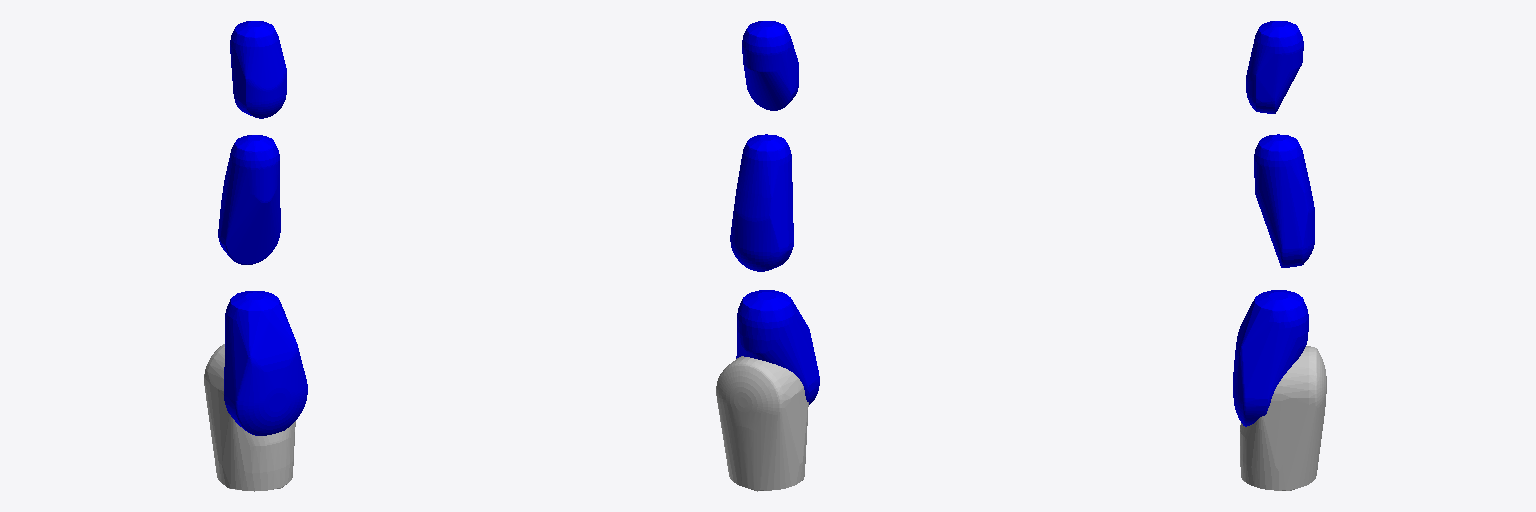
robot.urdf — motoman_sia10f:
<?xml version="1.0" ?>
<!-- =================================================================================== -->
<!-- |    This document was autogenerated by xacro from sia10f.xacro                   | -->
<!-- |    EDITING THIS FILE BY HAND IS NOT RECOMMENDED                                 | -->
<!-- =================================================================================== -->
<robot name="motoman_sia10f" xmlns:xacro="http://ros.org/wiki/xacro">
  <link name="base_link">
    <visual>
      <geometry>
        <mesh filename="package://motoman_sia10f_support/meshes/sia10f/visual_rot/motoman_base.stl"/>
      </geometry>
      <material name="blue">
        <color rgba="0 0 1 1"/>
      </material>
    </visual>
    <collision>
      <geometry>
        <mesh filename="package://motoman_sia10f_support/meshes/sia10f/collision_rot/motoman_base.stl"/>
      </geometry>
      <material name="yellow">
        <color rgba="0 1 1 1"/>
      </material>
    </collision>
    <inertial>
      <origin rpy="0 0 0" xyz="-0.025918 -0.000376 0.076105"/>
      <mass value="9.23913043478"/>
      <inertia ixx="0.0378685009058" ixy="0" ixz="0" iyy="0.0465867830616" iyz="0" izz="0.0514065294384"/>
    </inertial>
  </link>
  <link name="link_s">
    <visual>
      <geometry>
        <mesh filename="package://motoman_sia10f_support/meshes/sia10f/visual_rot/motoman_axis_s.stl"/>
      </geometry>
      <material name="silver">
        <color rgba="0.8 0.8 0.8 1"/>
      </material>
    </visual>
    <collision>
      <geometry>
        <mesh filename="package://motoman_sia10f_support/meshes/sia10f/collision_rot/motoman_axis_s.stl"/>
      </geometry>
      <material name="yellow"/>
    </collision>
    <inertial>
      <origin rpy="0 0 0" xyz="0 0 0"/>
      <mass value="8.36956521739"/>
      <inertia ixx="0.1285284" ixy="0" ixz="0" iyy="0.127697251956" iyz="0" izz="0.0186623672464"/>
    </inertial>
  </link>
  <link name="link_l">
    <visual>
      <origin rpy="0 0 0" xyz="0 0 0"/>
      <geometry>
        <mesh filename="package://motoman_sia10f_support/meshes/sia10f/visual_rot/motoman_axis_l.stl"/>
      </geometry>
      <material name="blue"/>
    </visual>
    <collision>
      <origin rpy="0 0 0" xyz="0 0 0"/>
      <geometry>
        <mesh filename="package://motoman_sia10f_support/meshes/sia10f/collision_rot/motoman_axis_l.stl"/>
      </geometry>
      <material name="yellow"/>
    </collision>
    <inertial>
      <origin rpy="0 0 0" xyz="0 0 0"/>
      <mass value="7.60869565217"/>
      <inertia ixx="0.12248884058" ixy="0" ixz="0" iyy="0.117554616667" iyz="0" izz="0.0177495804348"/>
    </inertial>
  </link>
  <link name="link_e">
    <visual>
      <origin rpy="0 0 0" xyz="0 0 0"/>
      <geometry>
        <mesh filename="package://motoman_sia10f_support/meshes/sia10f/visual_rot/motoman_axis_e.stl"/>
      </geometry>
      <material name="silver"/>
    </visual>
    <collision>
      <origin rpy="0 0 0" xyz="0 0 0"/>
      <geometry>
        <mesh filename="package://motoman_sia10f_support/meshes/sia10f/collision_rot/motoman_axis_e.stl"/>
      </geometry>
      <material name="yellow"/>
    </collision>
    <inertial>
      <origin rpy="0 0 0" xyz="0 0 0"/>
      <mass value="1.30434782609"/>
      <inertia ixx="0.0122899381739" ixy="0" ixz="0" iyy="0.0117127787826" iyz="0" izz="0.00344401234783"/>
    </inertial>
  </link>
  <link name="link_u">
    <visual>
      <origin rpy="0 0 0" xyz="0 0 0"/>
      <geometry>
        <mesh filename="package://motoman_sia10f_support/meshes/sia10f/visual_rot/motoman_axis_u.stl"/>
      </geometry>
      <material name="blue"/>
    </visual>
    <collision>
      <origin rpy="0 0 0" xyz="0 0 0"/>
      <geometry>
        <mesh filename="package://motoman_sia10f_support/meshes/sia10f/collision_rot/motoman_axis_u.stl"/>
      </geometry>
      <material name="yellow"/>
    </collision>
    <inertial>
      <origin rpy="0 0 0" xyz="0.0 0.0 0.0"/>
      <mass value="1.08695652174"/>
      <inertia ixx="0.0110207115768" ixy="0" ixz="0" iyy="0.00996803594202" iyz="0" izz="0.00214043853333"/>
    </inertial>
  </link>
  <link name="link_r">
    <visual>
      <origin rpy="0 0 0" xyz="0 0 0"/>
      <geometry>
        <mesh filename="package://motoman_sia10f_support/meshes/sia10f/visual_rot/motoman_axis_r.stl"/>
      </geometry>
      <material name="silver"/>
    </visual>
    <collision>
      <origin rpy="0 0 0" xyz="0 0 0"/>
      <geometry>
        <mesh filename="package://motoman_sia10f_support/meshes/sia10f/collision_rot/motoman_axis_r.stl"/>
      </geometry>
      <material name="yellow"/>
    </collision>
    <inertial>
      <origin rpy="0 0 0" xyz="0 0 0"/>
      <mass value="0.978260869565"/>
      <inertia ixx="0.0108400832201" ixy="0" ixz="0" iyy="0.010708873981" iyz="0" izz="0.00140456861413"/>
    </inertial>
  </link>
  <link name="link_b">
    <visual>
      <origin rpy="0 0 0" xyz="0 0 0"/>
      <geometry>
        <mesh filename="package://motoman_sia10f_support/meshes/sia10f/visual_rot/motoman_axis_b.stl"/>
      </geometry>
      <material name="blue"/>
    </visual>
    <collision>
      <origin rpy="0 0 0" xyz="0 0 0"/>
      <geometry>
        <mesh filename="package://motoman_sia10f_support/meshes/sia10f/collision_rot/motoman_axis_b.stl"/>
      </geometry>
      <material name="yellow"/>
    </collision>
    <inertial>
      <origin rpy="0 0 0" xyz="0 0 0"/>
      <mass value="0.869565217391"/>
      <inertia ixx="0.00814341869565" ixy="0" ixz="0" iyy="0.00709473869565" iyz="0" izz="0.000736577391304"/>
    </inertial>
  </link>
  <link name="link_t">
    <visual>
      <geometry>
        <mesh filename="package://motoman_sia10f_support/meshes/sia10f/visual_rot/motoman_axis_t.stl"/>
      </geometry>
      <material name="silver"/>
    </visual>
    <collision>
      <geometry>
        <mesh filename="package://motoman_sia10f_support/meshes/sia10f/collision_rot/motoman_axis_t.stl"/>
      </geometry>
      <material name="yellow"/>
    </collision>
    <inertial>
      <mass value="0.54347826087"/>
      <inertia ixx="0.003" ixy="0" ixz="0" iyy="0.003" iyz="0" izz="0.001"/>
    </inertial>
  </link>
  <link name="tool0"/>
  <joint name="joint_s" type="revolute">
    <parent link="base_link"/>
    <child link="link_s"/>
    <origin rpy="0 0 0" xyz="0 0 0.36"/>
    <axis xyz="0 0 1"/>
    <dynamics damping="0.7" friction="0.7"/>
    <limit effort="100" lower="-3.1415" upper="3.1415" velocity="2.9670" />
  </joint>
  <joint name="joint_l" type="revolute">
    <parent link="link_s"/>
    <child link="link_l"/>
    <origin rpy="0 0 0" xyz="0 0 0"/>
    <axis xyz="0 1 0"/>
    <dynamics damping="0.7" friction="0.7"/>
    <limit effort="100" lower="-1.9198" upper="1.9198" velocity="2.9670" />
  </joint>
  <joint name="joint_e" type="revolute">
    <parent link="link_l"/>
    <child link="link_e"/>
    <origin rpy="0 0 0" xyz="0 0 0.36"/>
    <axis xyz="0 0 1"/>
    <dynamics damping="0.7" friction="0.7"/>
    <limit effort="100" lower="-2.9670" upper="2.9670" velocity="2.9670" />
  </joint>
  <joint name="joint_u" type="revolute">
    <parent link="link_e"/>
    <child link="link_u"/>
    <origin rpy="0 0 0" xyz="0 0 0"/>
    <axis xyz="0 -1 0"/>
    <dynamics damping="0.7" friction="0.7"/>
    <limit effort="100" lower="-2.3561" upper="2.3561" velocity="2.9670" />
  </joint>
  <joint name="joint_r" type="revolute">
    <parent link="link_u"/>
    <child link="link_r"/>
    <origin rpy="0 0 0" xyz="0 0 0.360"/>
    <axis xyz="0 0 -1"/>
    <dynamics damping="0.7" friction="0.7"/>
    <limit effort="100" lower="-3.1415" upper="3.1415" velocity="3.4906" />
  </joint>
  <joint name="joint_b" type="revolute">
    <parent link="link_r"/>
    <child link="link_b"/>
    <origin rpy="0 0 0" xyz="0 0 0"/>
    <axis xyz="0 -1 0"/>
    <dynamics damping="0.7" friction="0.7"/>
    <limit effort="100" lower="-1.9198" upper="1.9198" velocity="3.4906" />
  </joint>
  <joint name="joint_t" type="revolute">
    <parent link="link_b"/>
    <child link="link_t"/>
    <origin rpy="0 0 0" xyz="0 0 0.155"/>
    <axis xyz="0 0 -1"/>
    <dynamics damping="0.7" friction="0.7"/>
    <limit effort="100" lower="-3.1415" upper="3.1415" velocity="6.9813" />
  </joint>
  <link name="base"/>
  <joint name="link_l-base" type="fixed">
    <origin rpy="0 0 0" xyz="0 0 0"/>
    <parent link="link_l"/>
    <child link="base"/>
  </joint>
  <joint name="link_t-tool0" type="fixed">
    <origin rpy="0 0 0" xyz="0 0 0"/>
    <parent link="link_t"/>
    <child link="tool0"/>
  </joint>
  <!-- transmission -->
  <transmission name="transmission_s">
    <type>transmission_interface/SimpleTransmission</type>
    <joint name="joint_s">
      <hardwareInterface>PositionJointInterface</hardwareInterface>
    </joint>
    <actuator name="motor_s">
      <hardwareInterface>PositionJointInterface</hardwareInterface>
      <mechanicalReduction>300</mechanicalReduction>
    </actuator>
  </transmission>
  <transmission name="transmission_l">
    <type>transmission_interface/SimpleTransmission</type>
    <joint name="joint_l">
      <hardwareInterface>PositionJointInterface</hardwareInterface>
    </joint>
    <actuator name="motor_l">
      <hardwareInterface>PositionJointInterface</hardwareInterface>
      <mechanicalReduction>300</mechanicalReduction>
    </actuator>
  </transmission>
  <transmission name="transmission_e">
    <type>transmission_interface/SimpleTransmission</type>
    <joint name="joint_e">
      <hardwareInterface>PositionJointInterface</hardwareInterface>
    </joint>
    <actuator name="motor_e">
      <hardwareInterface>PositionJointInterface</hardwareInterface>
      <mechanicalReduction>100</mechanicalReduction>
    </actuator>
  </transmission>
  <transmission name="transmission_u">
    <type>transmission_interface/SimpleTransmission</type>
    <joint name="joint_u">
      <hardwareInterface>PositionJointInterface</hardwareInterface>
    </joint>
    <actuator name="motor_u">
      <hardwareInterface>PositionJointInterface</hardwareInterface>
      <mechanicalReduction>50</mechanicalReduction>
    </actuator>
  </transmission>
  <transmission name="transmission_r">
    <type>transmission_interface/SimpleTransmission</type>
    <joint name="joint_r">
      <hardwareInterface>PositionJointInterface</hardwareInterface>
    </joint>
    <actuator name="motor_r">
      <hardwareInterface>PositionJointInterface</hardwareInterface>
      <mechanicalReduction>30</mechanicalReduction>
    </actuator>
  </transmission>
  <transmission name="transmission_b">
    <type>transmission_interface/SimpleTransmission</type>
    <joint name="joint_b">
      <hardwareInterface>PositionJointInterface</hardwareInterface>
    </joint>
    <actuator name="motor_b">
      <hardwareInterface>PositionJointInterface</hardwareInterface>
      <mechanicalReduction>30</mechanicalReduction>
    </actuator>
  </transmission>
  <transmission name="transmission_t">
    <type>transmission_interface/SimpleTransmission</type>
    <joint name="joint_t">
      <hardwareInterface>PositionJointInterface</hardwareInterface>
    </joint>
    <actuator name="motor_t">
      <hardwareInterface>PositionJointInterface</hardwareInterface>
      <mechanicalReduction>10</mechanicalReduction>
    </actuator>
  </transmission>
  <!-- gazebo -->
  <gazebo>
    <plugin filename="libgazebo_ros_control.so" name="gazebo_ros_control">
      <robotSimType>gazebo_ros_control/DefaultRobotHWSim</robotSimType>
    </plugin>
  </gazebo>
  <gazebo reference="base_link">
    <mu1>0.2</mu1>
    <mu2>0.2</mu2>
    <selfCollide>true</selfCollide>
  </gazebo>
  <gazebo reference="link_s">
    <mu1>0.2</mu1>
    <mu2>0.2</mu2>
    <selfCollide>true</selfCollide>
  </gazebo>
  <gazebo reference="link_l">
    <mu1>0.2</mu1>
    <mu2>0.2</mu2>
    <selfCollide>true</selfCollide>
  </gazebo>
  <gazebo reference="link_e">
    <mu1>0.2</mu1>
    <mu2>0.2</mu2>
    <selfCollide>true</selfCollide>
  </gazebo>
  <gazebo reference="link_u">
    <mu1>0.2</mu1>
    <mu2>0.2</mu2>
    <selfCollide>true</selfCollide>
  </gazebo>
  <gazebo reference="link_r">
    <mu1>0.2</mu1>
    <mu2>0.2</mu2>
    <selfCollide>true</selfCollide>
  </gazebo>
  <gazebo reference="link_b">
    <mu1>0.2</mu1>
    <mu2>0.2</mu2>
    <selfCollide>true</selfCollide>
  </gazebo>
  <gazebo reference="link_t">
    <mu1>0.2</mu1>
    <mu2>0.2</mu2>
    <selfCollide>true</selfCollide>
  </gazebo>
  <link name="world"/>
  <joint name="world" type="fixed">
    <origin rpy="0 0 0" xyz="0 0 0"/>
    <parent link="world"/>
    <child link="base_link"/>
  </joint>
  <!-- gazebo
  <gazebo>
    <plugin name="gazebo_ros_control" filename="libgazebo_ros_control.so">
      <robotSimType>gazebo_ros_control/DefaultRobotHWSim</robotSimType>
    </plugin>
  </gazebo>
  -->
</robot>

--- Facts derived from the render (not from the file) ---
Views: 3 orthographic renders of the robot side by side, from view 1: azimuth 30°, elevation 25°; view 2: azimuth 150°, elevation 25°; view 3: azimuth 270°, elevation 25°.
Model motoman_sia10f with 11 links and 10 joints (7 revolute, 3 fixed), rooted at world, posed every joint at zero.
Visible links, largest first — view 1: link_l, link_u, link_s, link_b; view 2: link_s, link_u, link_l, link_b; view 3: link_s, link_l, link_u, link_b.
Link boxes in pixels (x1,y1,x2,y2): link_l: (224,291,307,435); link_u: (218,135,280,264); link_s: (204,344,295,491); link_b: (230,21,286,118); link_s: (716,356,808,491); link_u: (730,134,793,271); link_l: (736,290,819,404); link_b: (742,21,798,110); link_s: (1240,346,1326,490); link_l: (1233,290,1308,426); link_u: (1254,134,1314,267); link_b: (1246,21,1303,113).
Size in the robot's own frame: 0.183 by 0.205 by 1.11 metres.
Meshes: 8 distinct files referenced, 4 mesh visuals loaded (4 binary STL); not drawn: 4 (reference not matched to a file when rendering).
